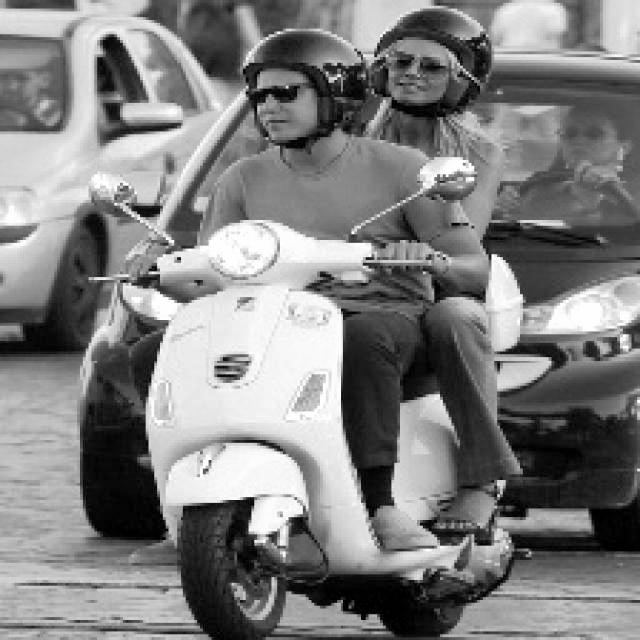Bike: (144, 241, 472, 639)
